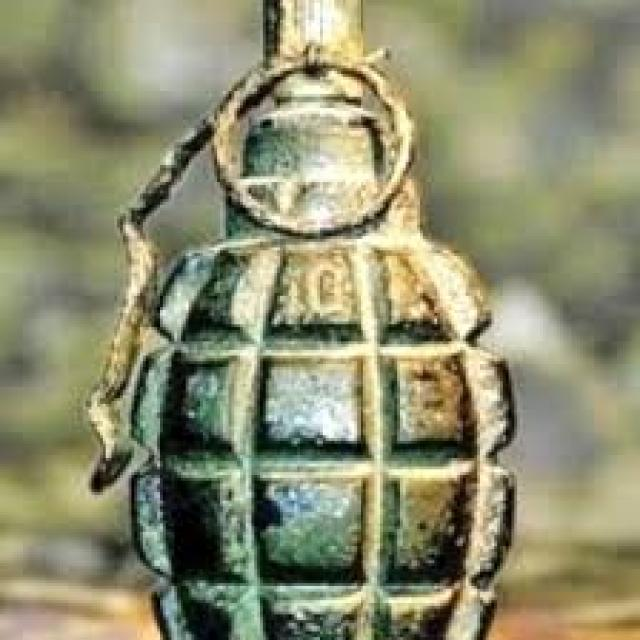grenade: (79, 1, 532, 640)
